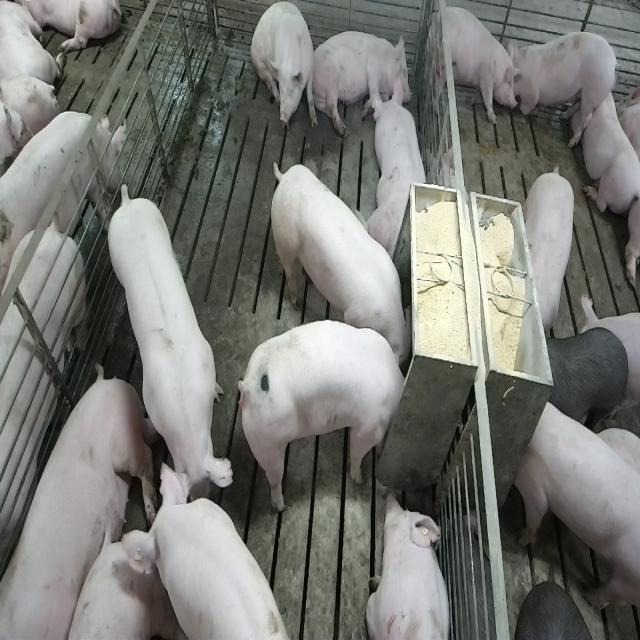Feeding: (243, 320, 417, 515), (264, 159, 412, 362)
Lateral_lying: (4, 367, 156, 640), (309, 28, 414, 138)
Sitting: (251, 1, 316, 140)
Standing: (106, 183, 237, 517), (0, 221, 88, 602), (515, 394, 638, 621), (138, 463, 290, 640), (0, 106, 122, 281), (512, 28, 617, 148), (430, 4, 520, 132), (524, 162, 578, 331), (545, 326, 629, 426)
Sternal_lying: (365, 489, 453, 640), (367, 85, 431, 264), (581, 79, 639, 215)
